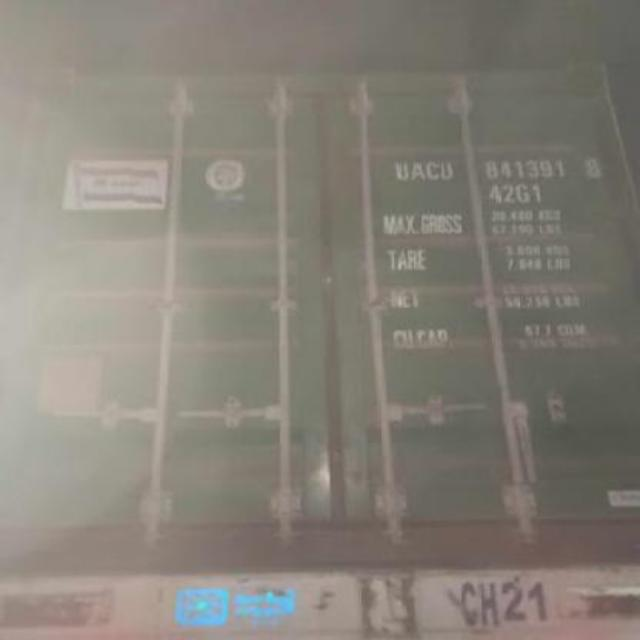1: (514, 158, 528, 178), (554, 158, 568, 178)
3: (526, 158, 538, 178)
4: (501, 156, 514, 180)
8: (484, 158, 500, 180), (586, 158, 602, 178)
9: (540, 158, 552, 178)
A: (412, 160, 426, 182)
C: (426, 160, 438, 182)
U: (394, 160, 412, 183), (440, 161, 456, 179)
